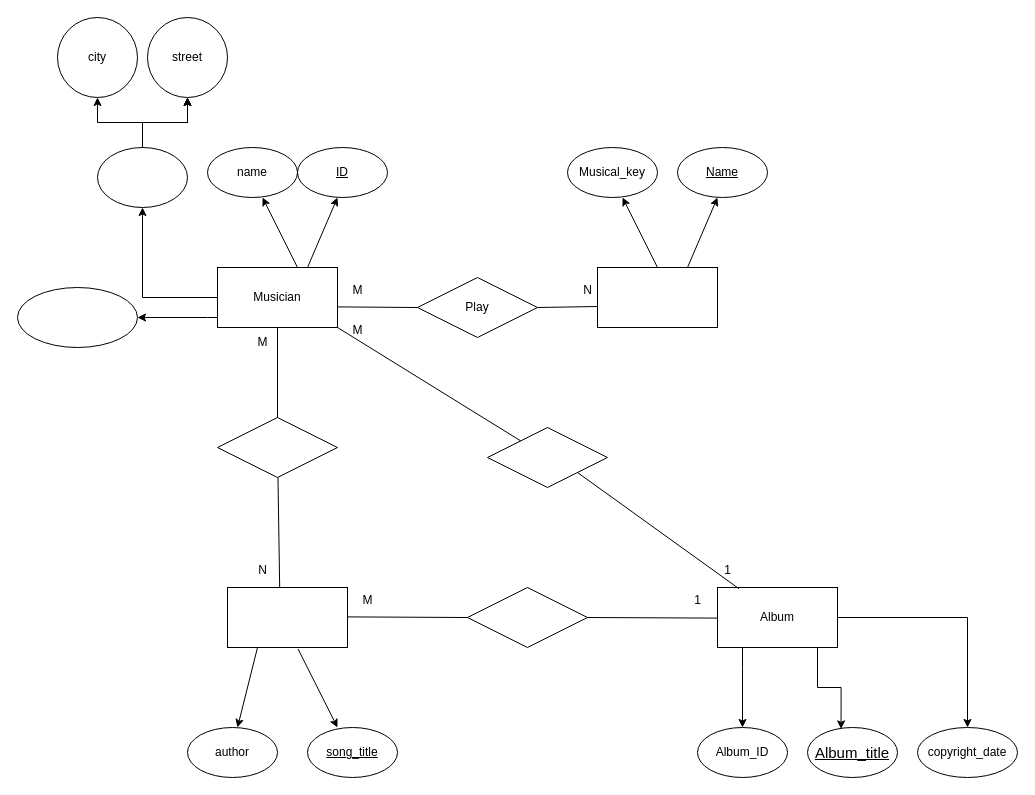
This 1035x795 diagram has some shape labels left out. The centre of each missing label's shape, as x and y in pixels:
"address" goes at (142,177).
"Appear" goes at (527,617).
"instrument" goes at (657,297).
"perform" goes at (277,447).
"Phone_number" goes at (77,317).
"produce" goes at (547,457).
"Song" goes at (287,617).
